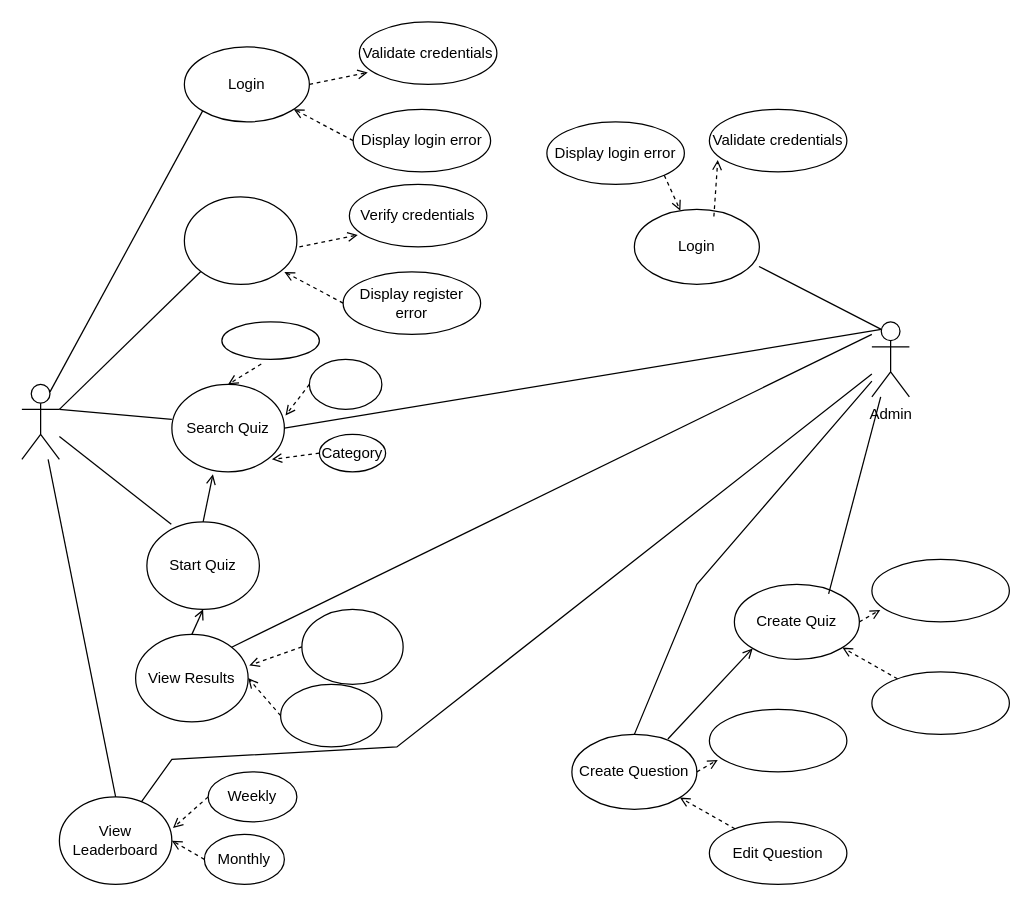
Image size: 1031x906. Some labels were removed from this diagram. The shapes that lost their labels are listed below. From the top down, each one's centre as x and y in pixels, then its label:
point 240,240: Register
point 270,340: Difficulty
point 345,383: KeyWord
point 40,421: User
point 940,590: Delete Quiz
point 352,646: At the end of the quiz
point 330,715: On MyResult page
point 940,702: Edit Quiz
point 777,740: Delete Question
